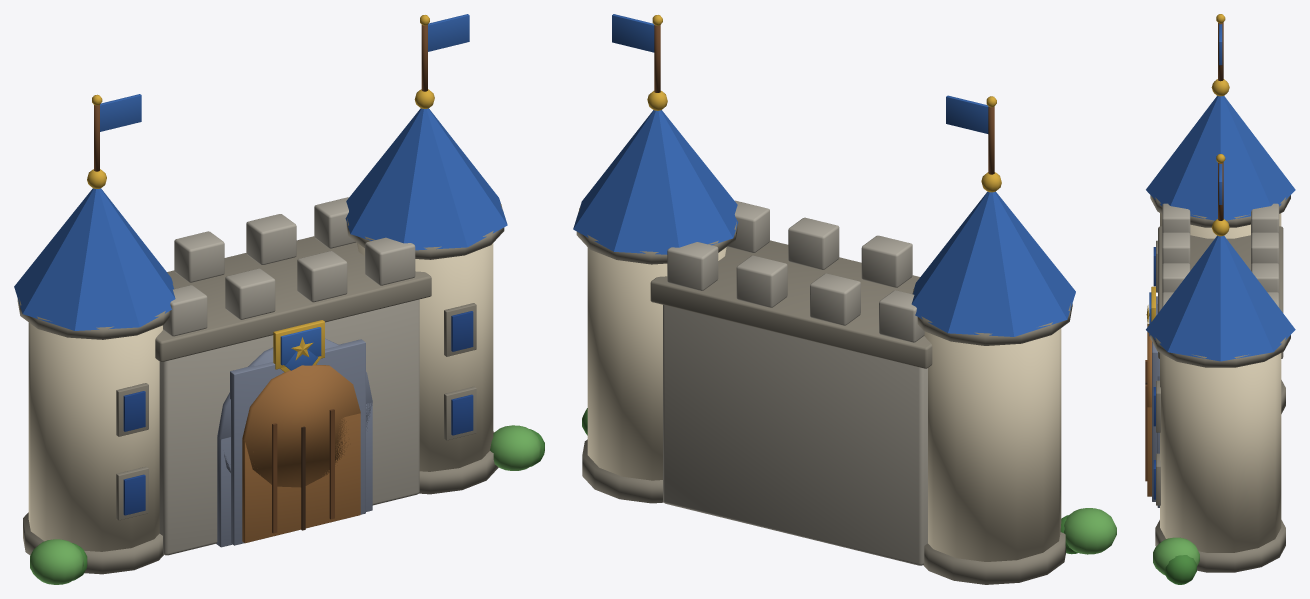
Rendered from k_gate.glb.
The picture shows the model from 3 angles, left to right: view 1: azimuth 30°, elevation 25°; view 2: azimuth 150°, elevation 25°; view 3: azimuth 270°, elevation 25°; orthographic projection. The views are drawn at different scales.
Parts seen in each view (by area): view 1: SK_k_gate; view 2: SK_k_gate; view 3: SK_k_gate.
Boxes of the visible parts, bbox=[...] form: SK_k_gate: bbox=[14, 14, 544, 584]; SK_k_gate: bbox=[573, 14, 1116, 584]; SK_k_gate: bbox=[1145, 14, 1295, 584].
Bounding box in the file's own units: 6.43 × 5.41 × 1.87.
